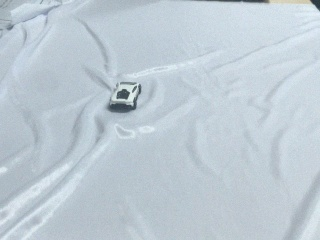toy_car: (109, 82, 141, 109)
